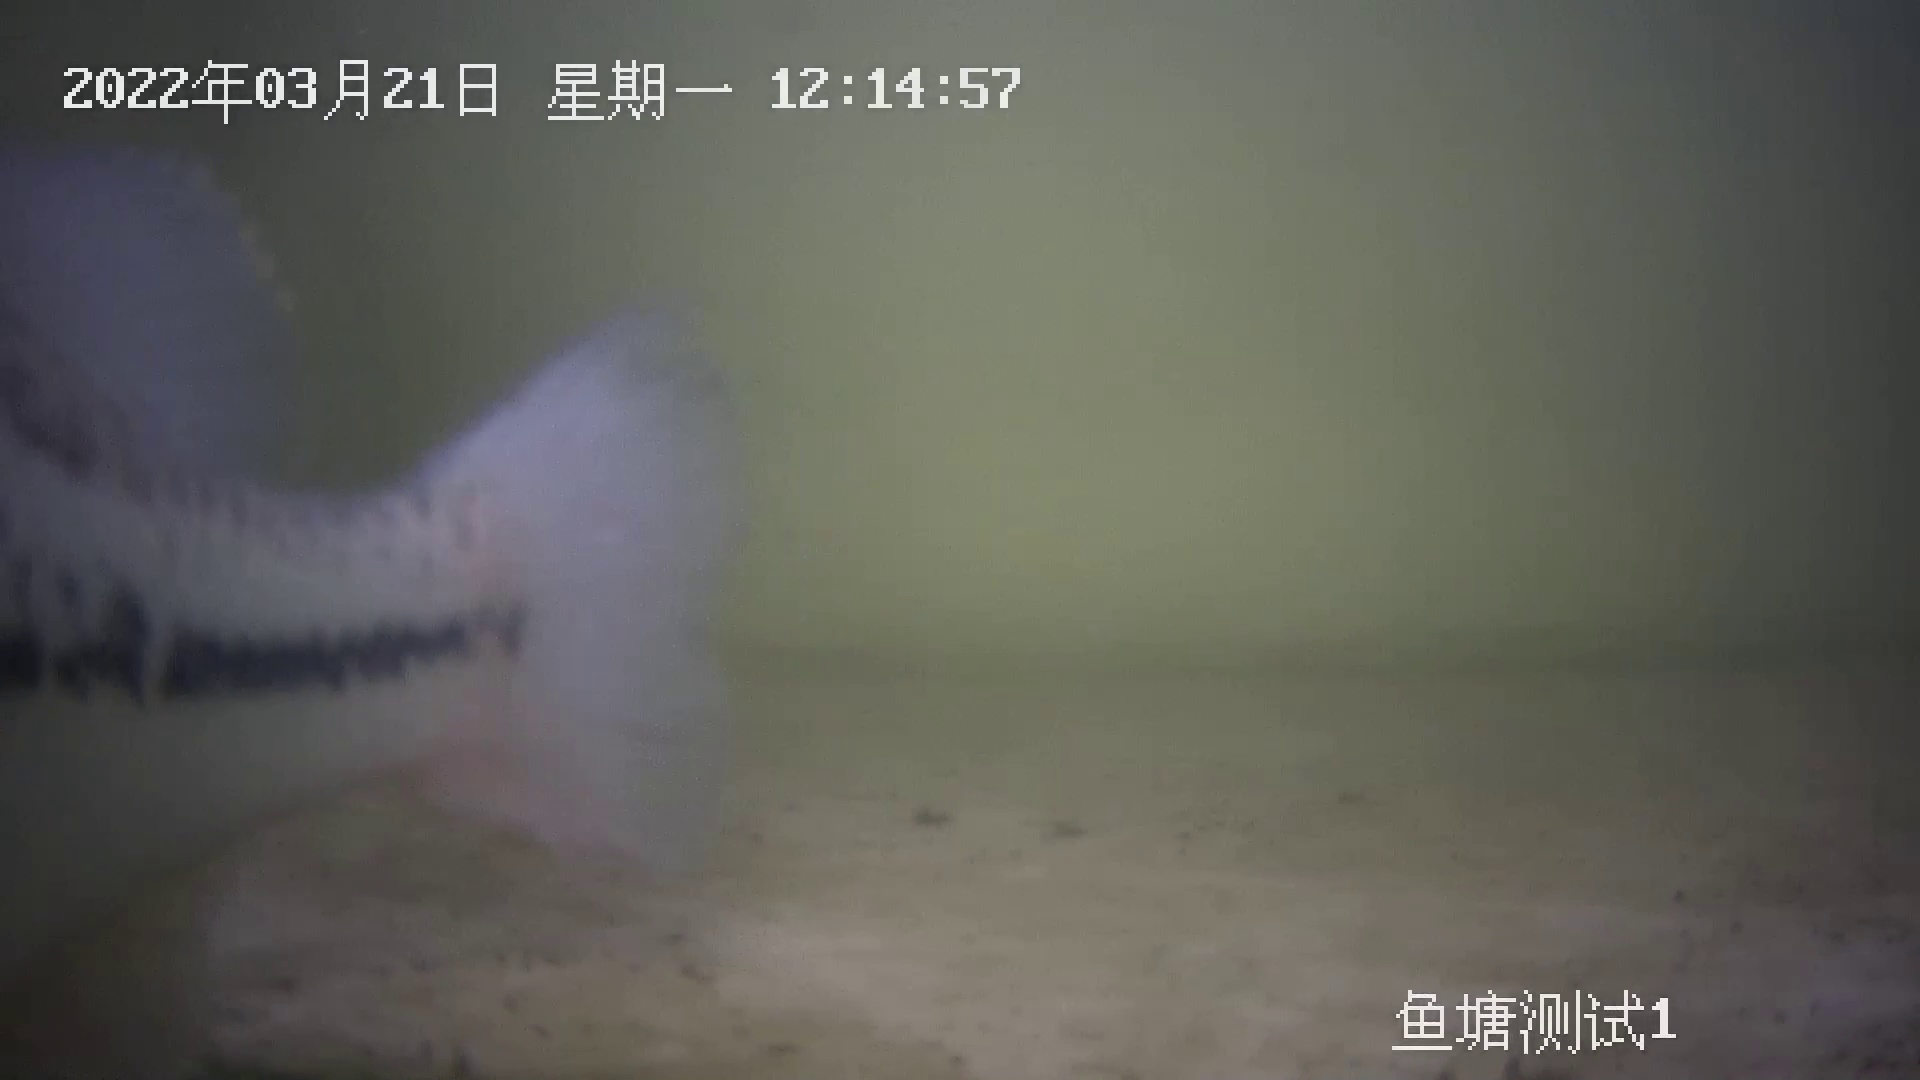fry: (5, 127, 775, 994)
